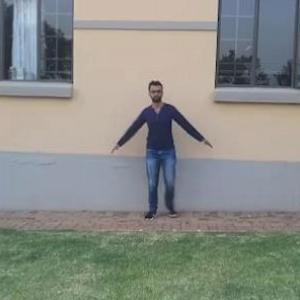land: (115, 83, 212, 230)
